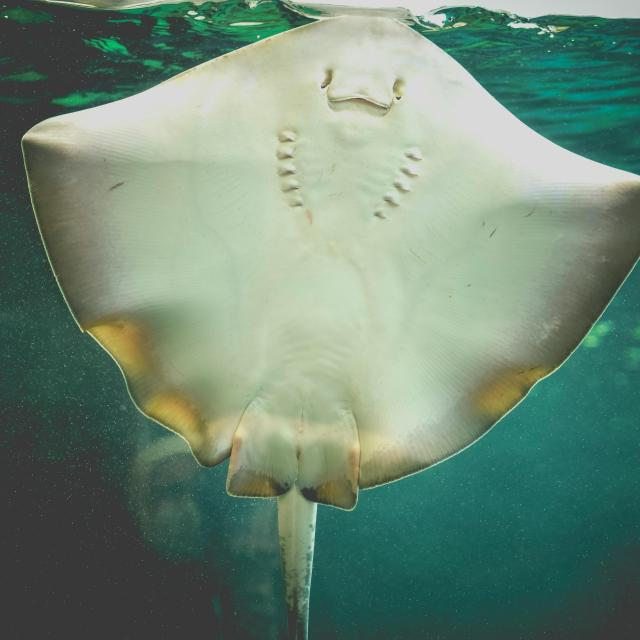stingray: (22, 16, 640, 640)
